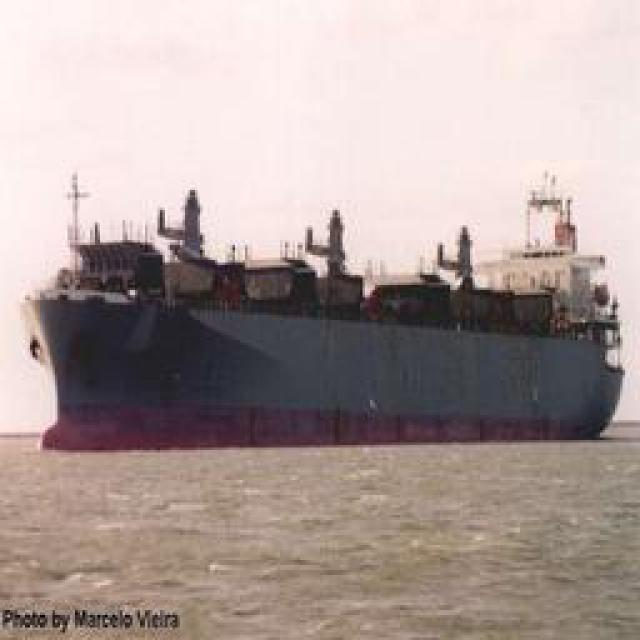Ship: (24, 193, 624, 448)
